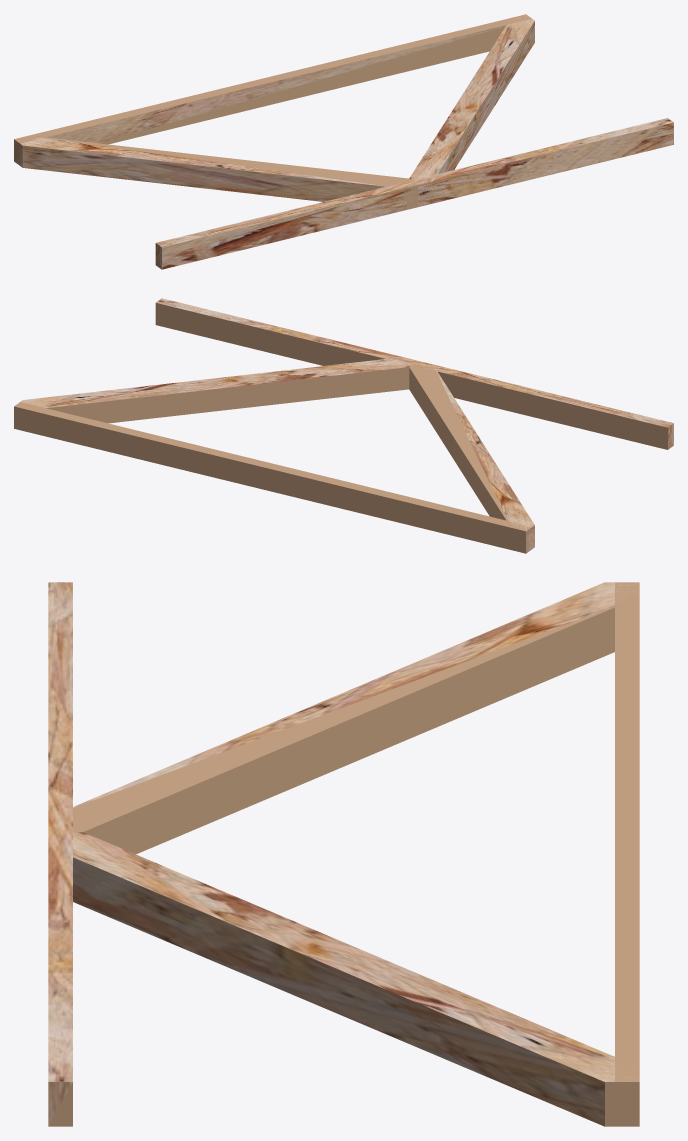
The picture shows the model from 3 angles, top to bottom: view 1: azimuth 30°, elevation 25°; view 2: azimuth 150°, elevation 25°; view 3: azimuth 270°, elevation 25°; orthographic projection. The views are drawn at different scales.
Parts seen in each view (by area): view 1: base_link; view 2: base_link; view 3: base_link.
Part boxes in pixels (x1,y1,x2,y2): base_link: (14, 14, 673, 269); base_link: (14, 298, 673, 553); base_link: (48, 582, 639, 1126).
Bounding box in the file's own units: 2.4 × 1.2 × 0.1.
Materials: 1 (1 with a texture image).
